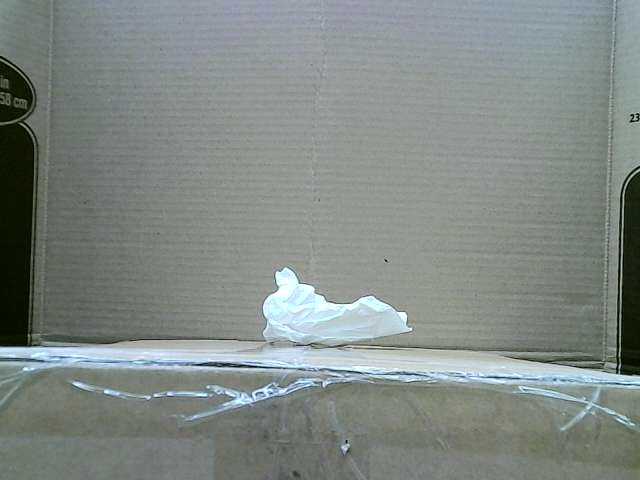Tissue: (261, 267, 412, 343)
